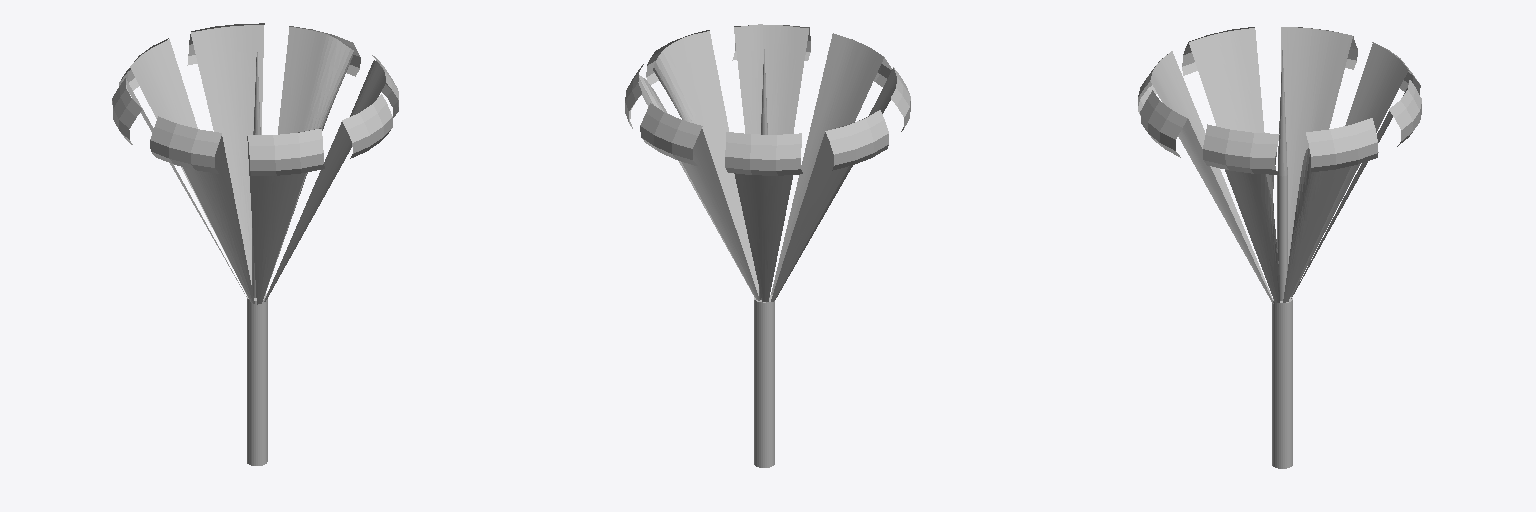
File: flower.obj
3 views of the same model, side by side, from view 1: azimuth 30°, elevation 25°; view 2: azimuth 150°, elevation 25°; view 3: azimuth 270°, elevation 25° (orthographic).
Parts seen in each view (by area): view 1: Cone, Cylinder, Petal_3, Petal_2, Petal_4, Petal; view 2: Cone, Cylinder, Petal_8, Petal, Petal_7, Petal_2; view 3: Cone, Cylinder, Petal_5, Petal_6, Middle_part, Petal_4, Petal_7.
Boxes of the visible parts, x1=… form: Cone: x1=126, y1=25, x2=385, y2=304; Cylinder: x1=247, y1=294, x2=267, y2=465; Petal_3: x1=248, y1=129, x2=324, y2=175; Petal_2: x1=150, y1=116, x2=221, y2=173; Petal_4: x1=342, y1=94, x2=392, y2=158; Petal: x1=112, y1=78, x2=141, y2=144; Cone: x1=638, y1=24, x2=896, y2=301; Cylinder: x1=754, y1=295, x2=774, y2=467; Petal_8: x1=725, y1=132, x2=802, y2=175; Petal: x1=825, y1=110, x2=888, y2=170; Petal_7: x1=640, y1=103, x2=702, y2=165; Petal_2: x1=891, y1=67, x2=910, y2=131; Cone: x1=1150, y1=27, x2=1408, y2=303; Cylinder: x1=1272, y1=297, x2=1292, y2=468; Petal_5: x1=1203, y1=124, x2=1279, y2=174; Petal_6: x1=1306, y1=118, x2=1378, y2=171; Middle_part: x1=1277, y1=50, x2=1287, y2=300; Petal_4: x1=1140, y1=90, x2=1187, y2=157; Petal_7: x1=1389, y1=80, x2=1421, y2=146.
Bounding box in the file's own units: 2.19 × 3.51 × 2.18.